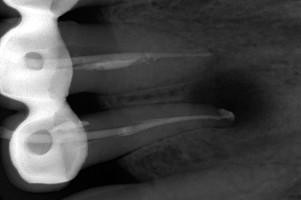Furcation Involvement: (185, 70, 275, 131)
